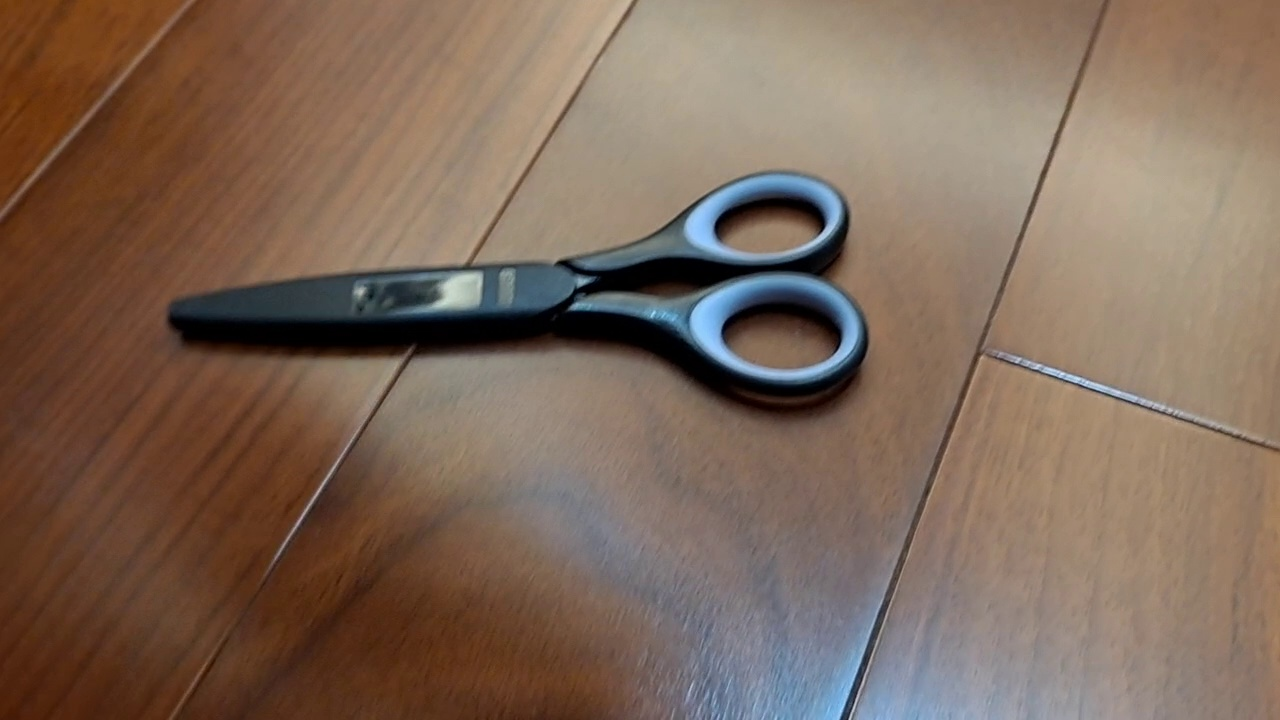scissors: (164, 167, 870, 406)
